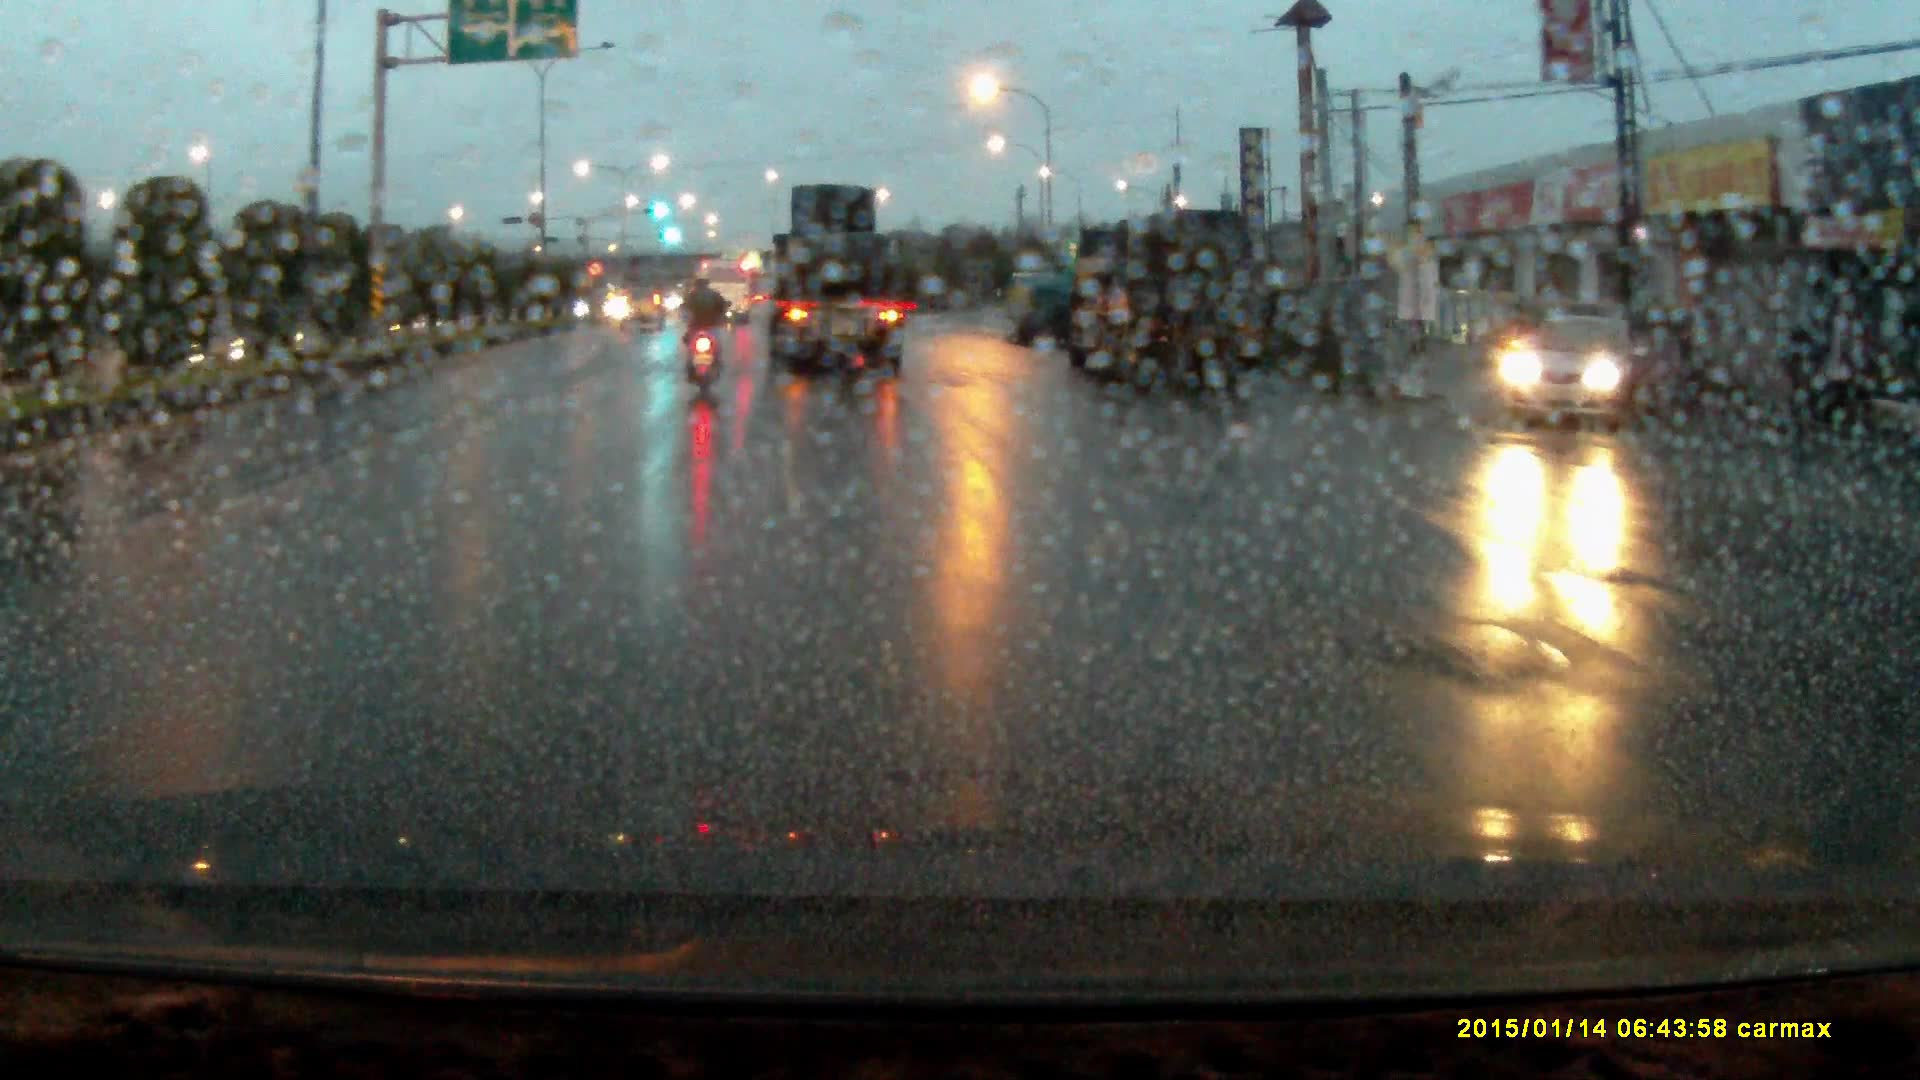rider: (676, 270, 733, 402)
vehicle: (1067, 207, 1262, 401), (768, 191, 907, 382), (1485, 307, 1682, 428), (1003, 271, 1080, 349), (701, 259, 750, 324), (614, 289, 665, 336)
